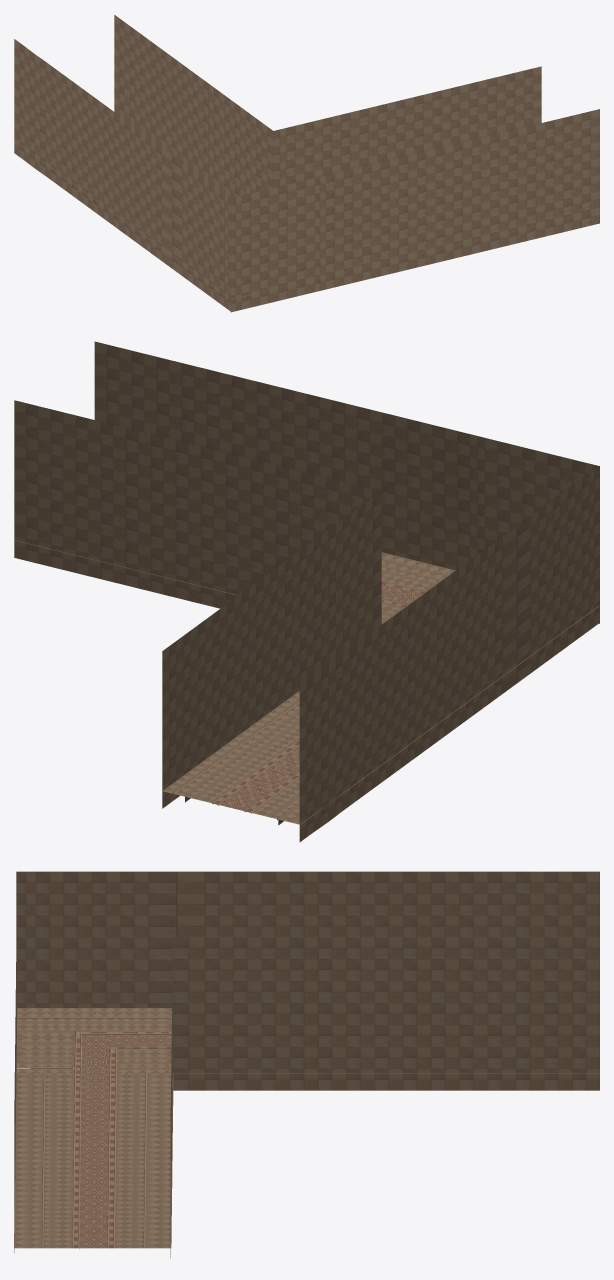
The model's file is qiangti1.FBX.
The picture shows the model from 3 angles, top to bottom: view 1: azimuth 30°, elevation 25°; view 2: azimuth 150°, elevation 25°; view 3: azimuth 270°, elevation 25°; orthographic projection. The views are drawn at different scales.
Visible parts, largest first — view 1: Object045; view 2: Object045; view 3: Object045.
Boxes of the visible parts, <box> form: Object045: <box>14,15,599,312</box>; Object045: <box>14,341,599,841</box>; Object045: <box>14,871,599,1258</box>.
Size of the model in its own units: 16608 by 4935 by 17069.
